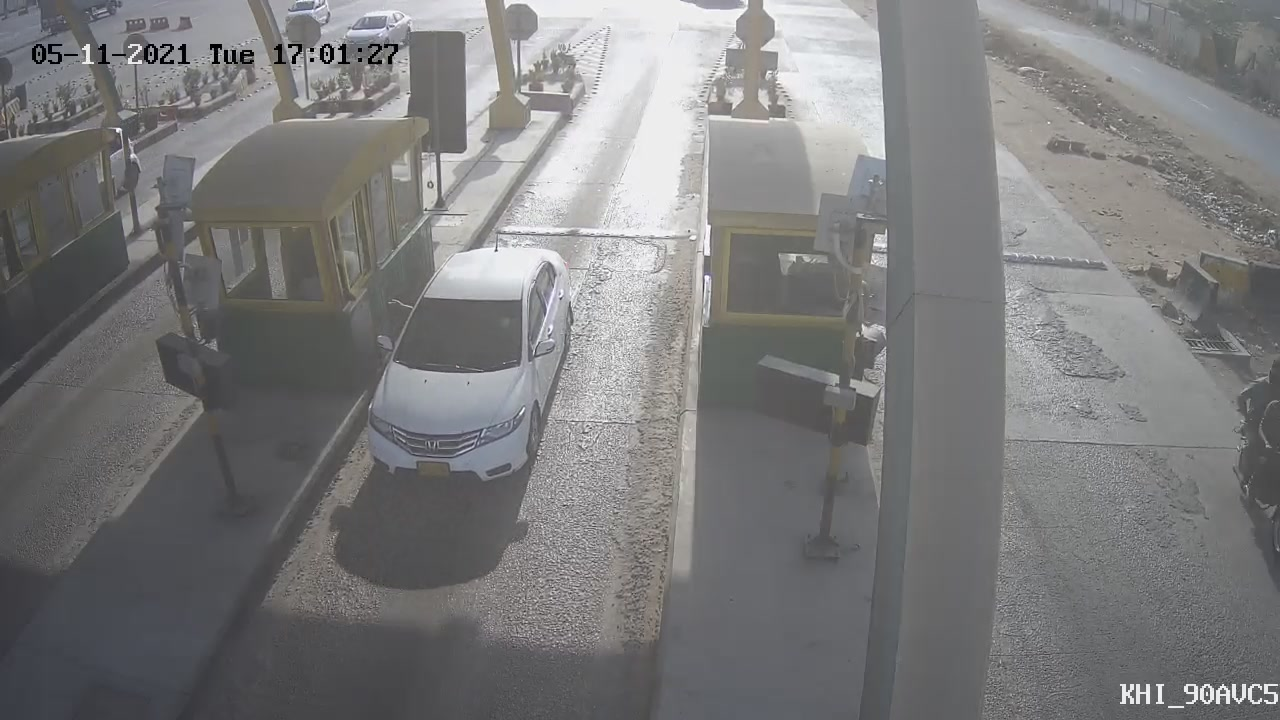F1: (339, 222, 595, 513)
